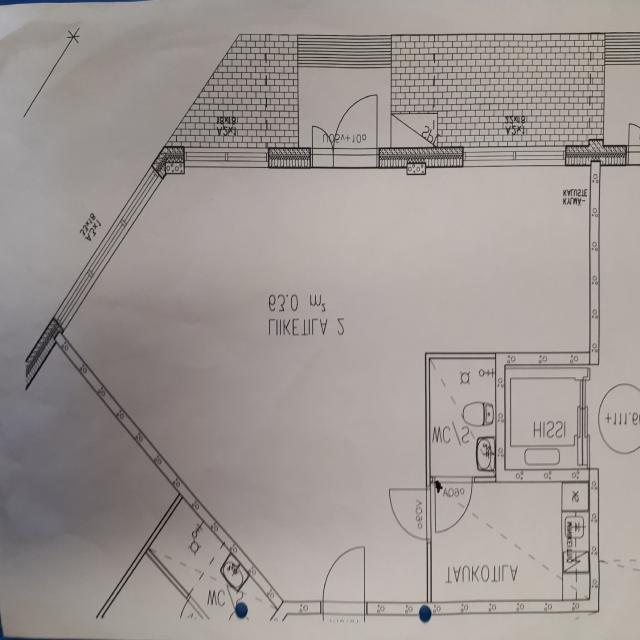door: (334, 89, 377, 166), (324, 544, 365, 614), (388, 489, 432, 539), (435, 475, 472, 532), (313, 118, 334, 166)
